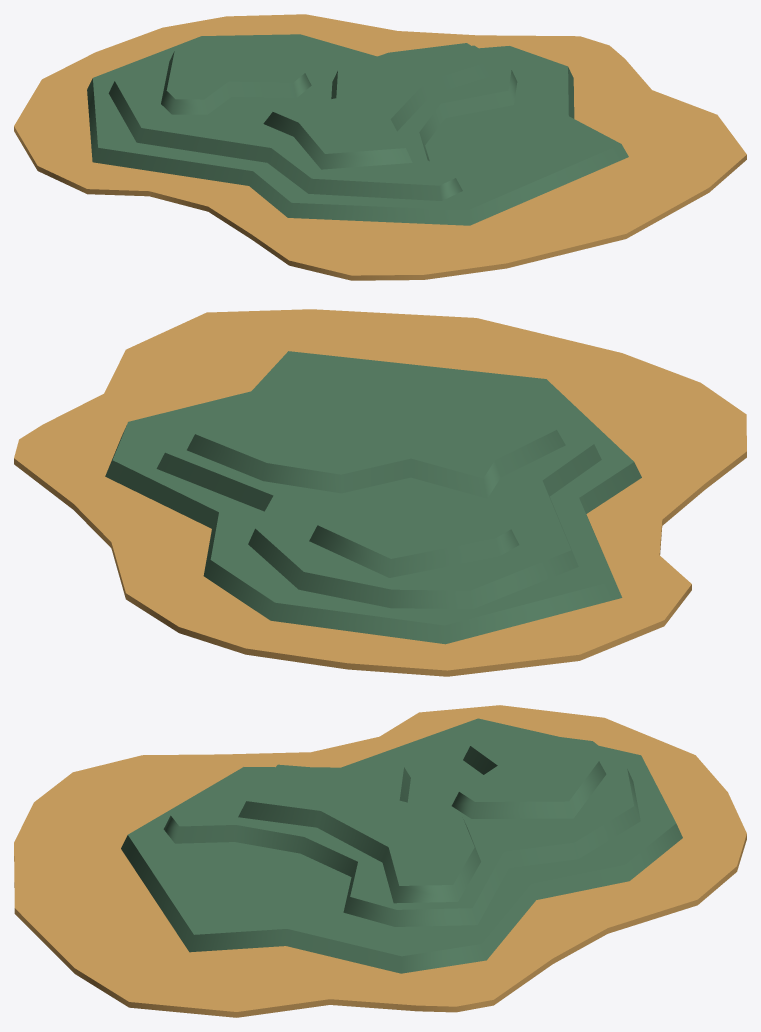
The model's file is Mini_island.fbx.
The picture shows the model from 3 angles, top to bottom: view 1: azimuth 30°, elevation 25°; view 2: azimuth 150°, elevation 25°; view 3: azimuth 270°, elevation 25°; orthographic projection. The views are drawn at different scales.
Visible parts, largest first — view 1: mesh_beach, mesh_island3, mesh_island2, mesh_island1, mesh_island; view 2: mesh_beach, mesh_island3, mesh_island2, mesh_island1, mesh_island; view 3: mesh_beach, mesh_island3, mesh_island2, mesh_island1, mesh_island.
Boxes of the visible parts, x1,y1,x2,y2 form: mesh_beach: (14,14,746,280); mesh_island3: (87,34,628,225); mesh_island2: (108,38,517,200); mesh_island1: (263,43,500,169); mesh_island: (161,42,311,114); mesh_beach: (14,309,746,676); mesh_island3: (105,351,641,644); mesh_island2: (156,380,601,609); mesh_island1: (187,397,565,498); mesh_island: (309,487,519,577); mesh_beach: (14,705,746,1017); mesh_island3: (121,718,682,973); mesh_island2: (163,725,640,926); mesh_island1: (238,764,480,903); mesh_island: (451,734,606,818).
Size of the model in its own units: 11.43 by 0.85 by 11.54.
